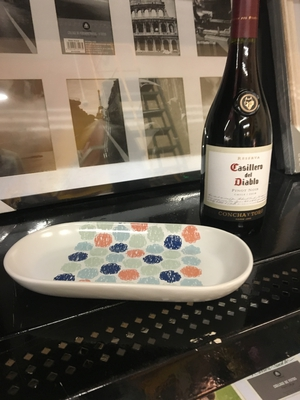casillero del diablo pinot noir: (198, 7, 281, 252)
